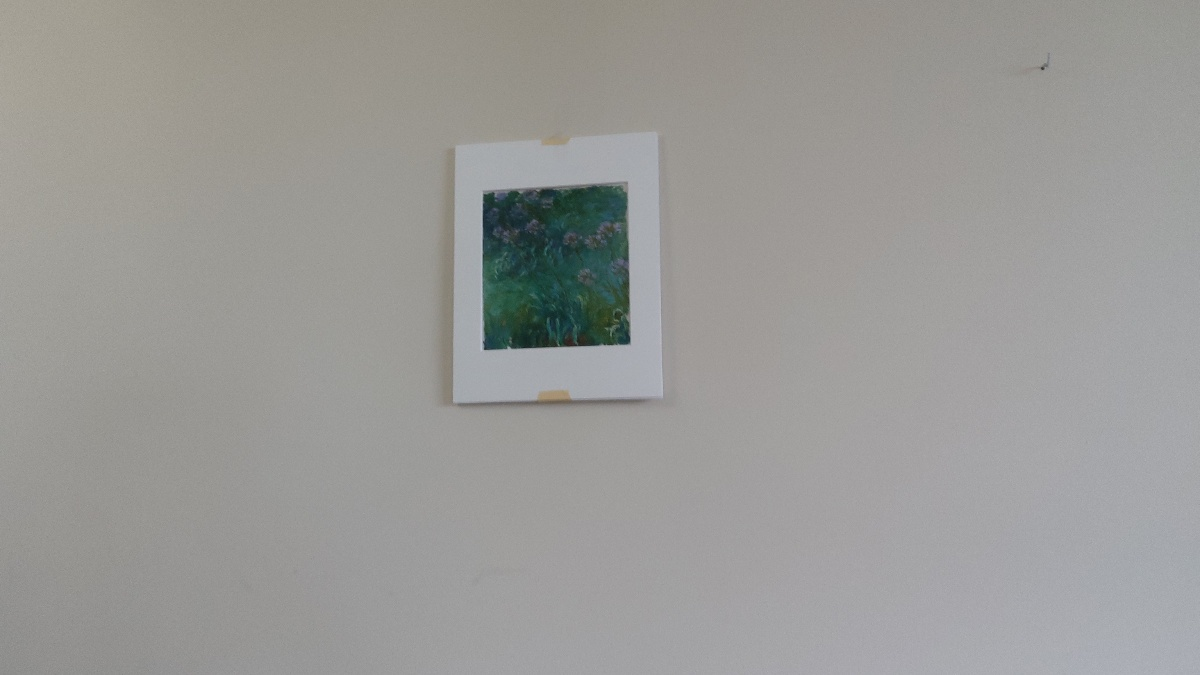painting: (476, 179, 638, 357)
